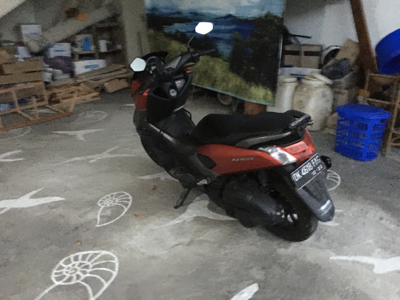moto: (126, 39, 340, 259)
